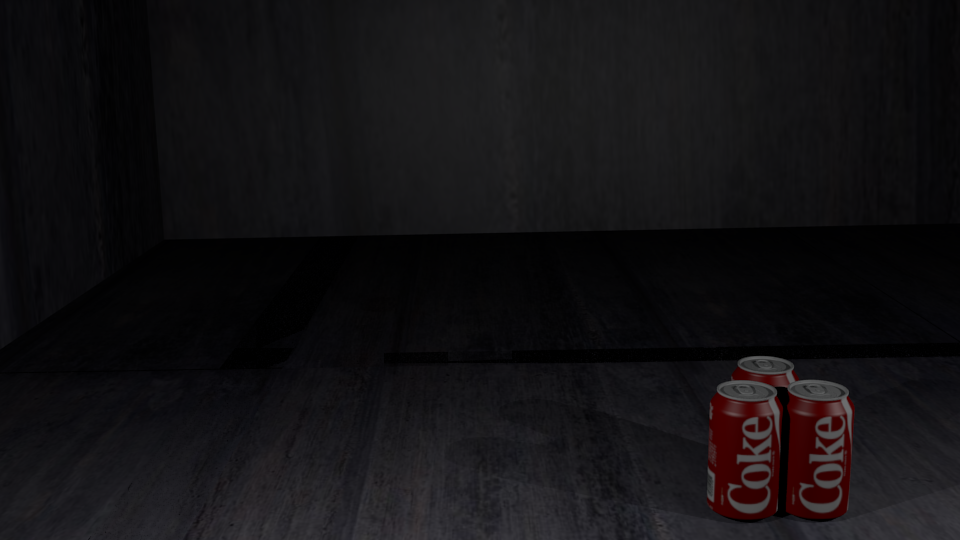cola_can: (780, 380, 854, 514), (709, 381, 782, 516), (733, 356, 798, 483)
